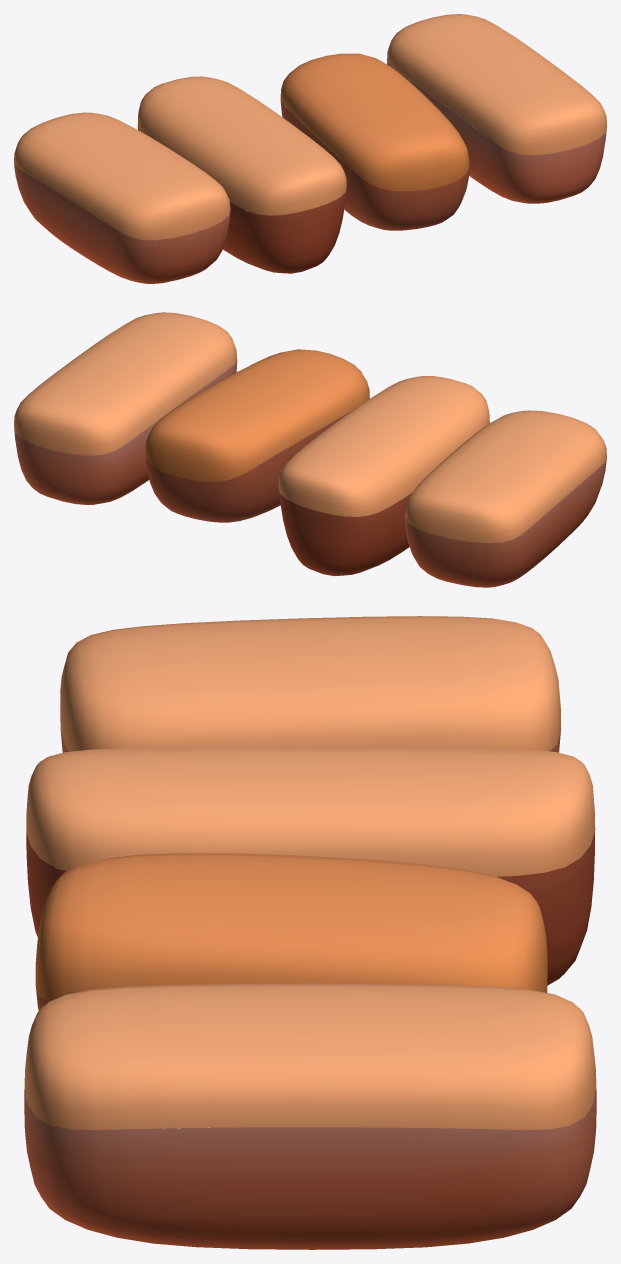
Rendered from Pathway_1.glb.
3 views of the same model, one above another, from view 1: azimuth 30°, elevation 25°; view 2: azimuth 150°, elevation 25°; view 3: azimuth 270°, elevation 25° (orthographic). The views are drawn at different scales.
Visible parts, largest first — view 1: Pathway_1; view 2: Pathway_1; view 3: Pathway_1.
Boxes of the visible parts, x1=… form: Pathway_1: x1=14, y1=14, x2=606, y2=283; Pathway_1: x1=14, y1=312, x2=606, y2=587; Pathway_1: x1=24, y1=616, x2=596, y2=1249.
Size of the model in its own units: 7.74 by 1.78 by 3.91.
Materials: 2 (2 with a texture image).
